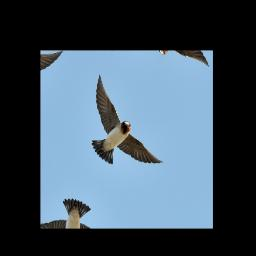Swallow: (68, 73, 181, 190)
